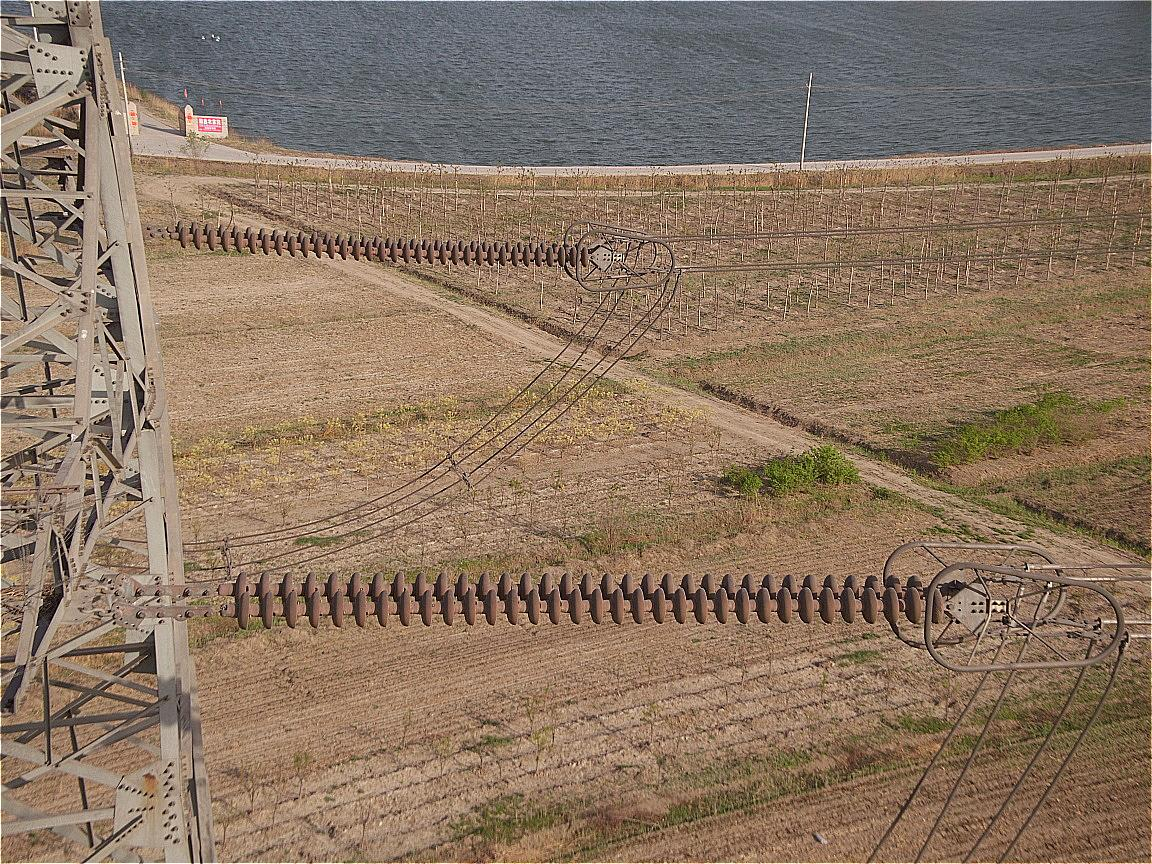insultor1: (216, 547, 979, 648), (168, 208, 606, 287)
